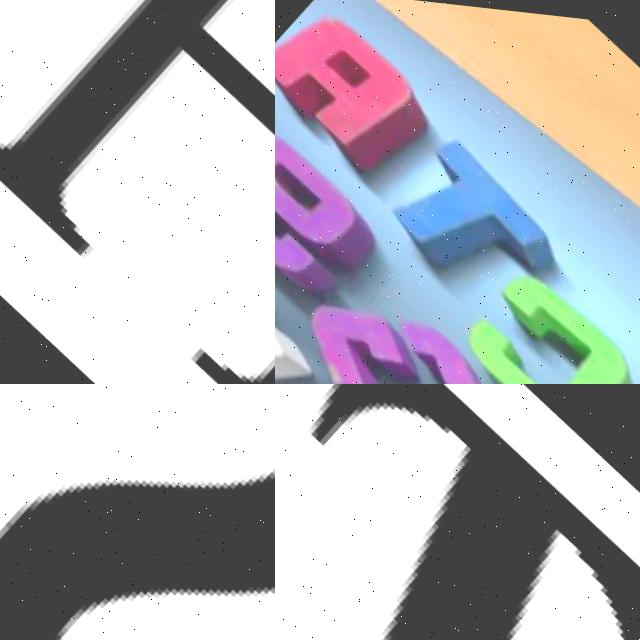A: (275, 0, 451, 193)
C: (440, 239, 640, 384)
G: (275, 242, 530, 384)
H: (0, 0, 275, 253), (275, 192, 328, 384)
S: (0, 384, 275, 640), (275, 108, 389, 318)
T: (275, 384, 640, 640), (361, 111, 568, 325)
